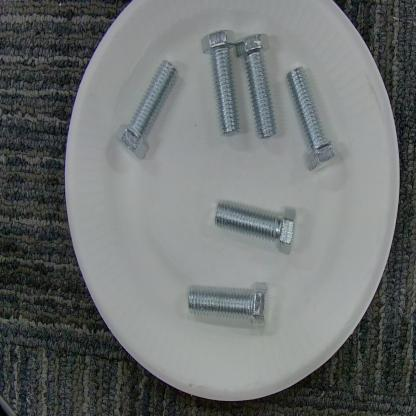FOD: (196, 20, 286, 148), (110, 54, 187, 164), (286, 58, 343, 182), (211, 191, 301, 262), (183, 274, 277, 330)
